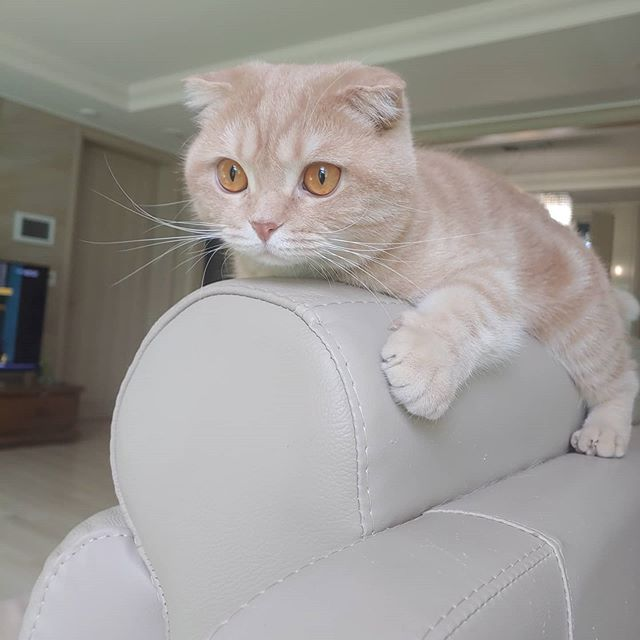cat: (167, 43, 417, 293)
